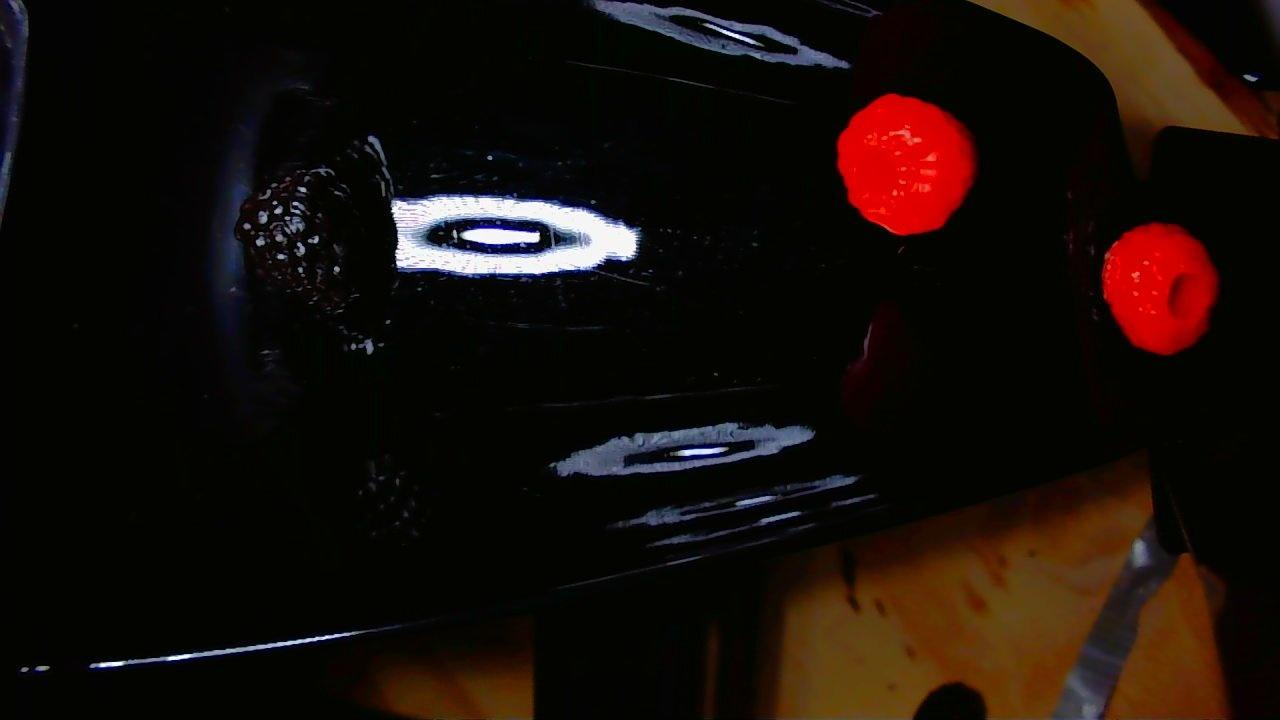berry: (235, 168, 394, 331), (837, 94, 977, 234), (1104, 223, 1218, 354)
